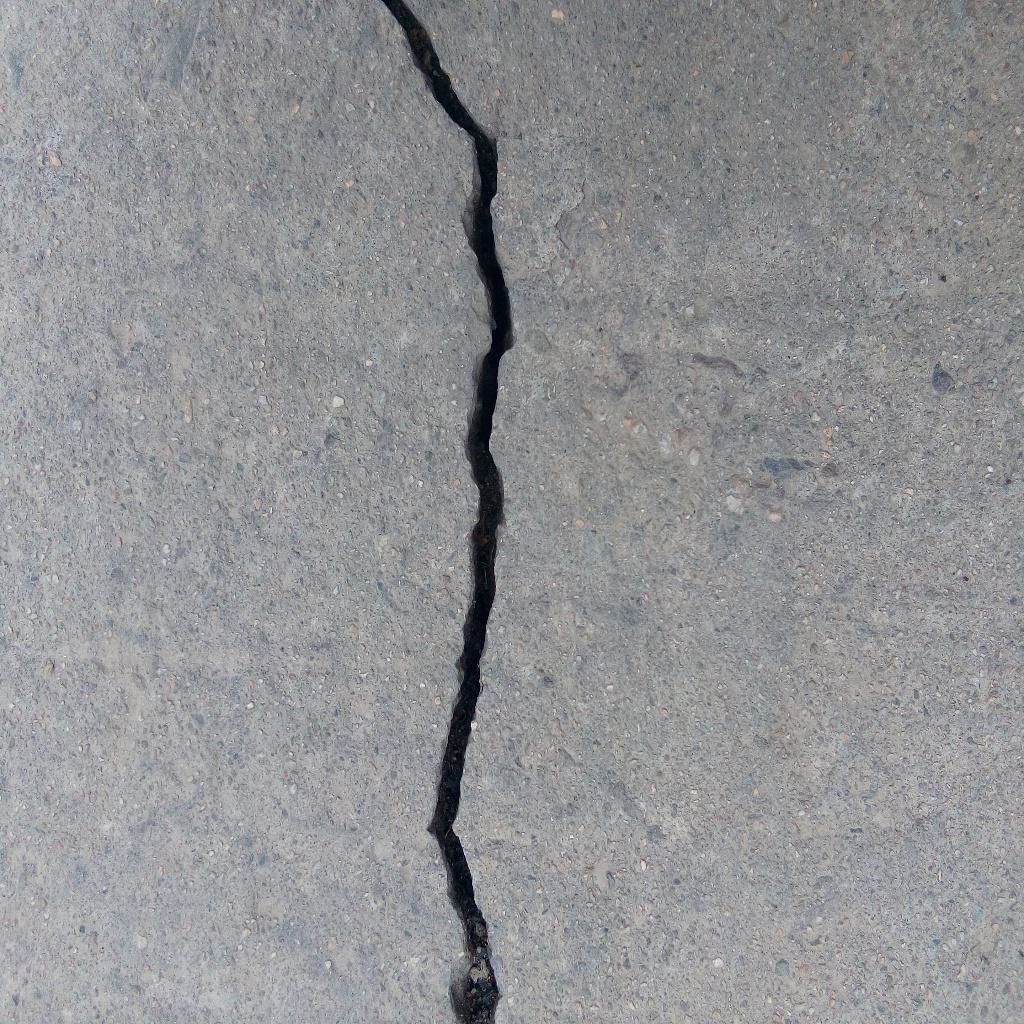Crack: (382, 1, 515, 1024)
